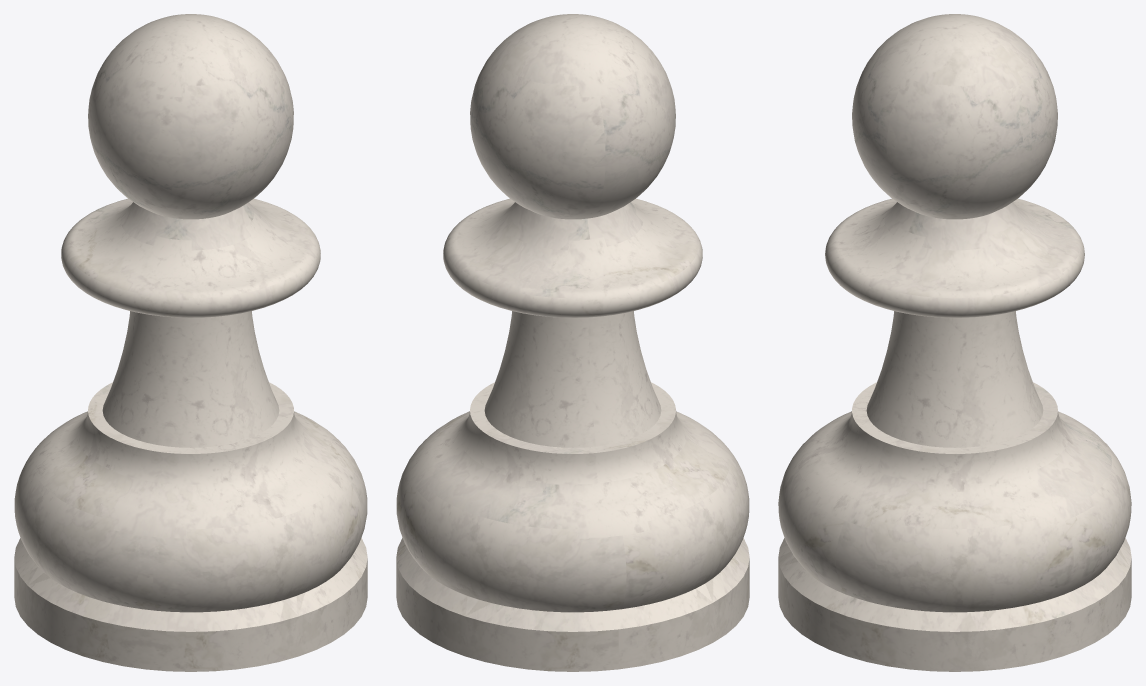
The model's file is White-Pawn.glb.
3 renders of one model, left to right at view 1: azimuth 30°, elevation 25°; view 2: azimuth 150°, elevation 25°; view 3: azimuth 270°, elevation 25°, orthographic.
Visible parts, largest first — view 1: ASSET_Joined; view 2: ASSET_Joined; view 3: ASSET_Joined.
Boxes of the visible parts, x1,y1,x2,y2 form: ASSET_Joined: [14, 14, 367, 671]; ASSET_Joined: [396, 14, 749, 671]; ASSET_Joined: [778, 14, 1131, 671].
Bounding box in the file's own units: 33.49 × 60 × 33.49.
Materials: 1 (1 with a texture image).
